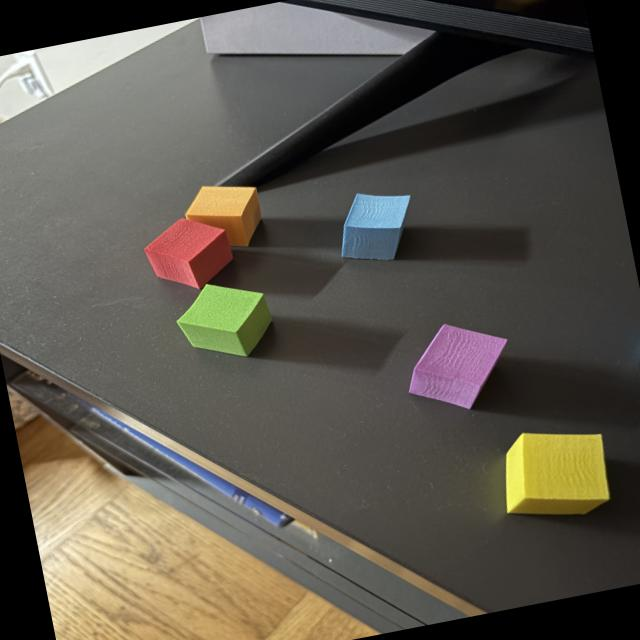bluecube: (342, 194, 410, 260)
greencube: (177, 284, 272, 356)
orangecube: (186, 186, 261, 246)
purplecube: (409, 325, 507, 409)
redcube: (145, 218, 233, 289)
yellowcube: (506, 433, 610, 514)
